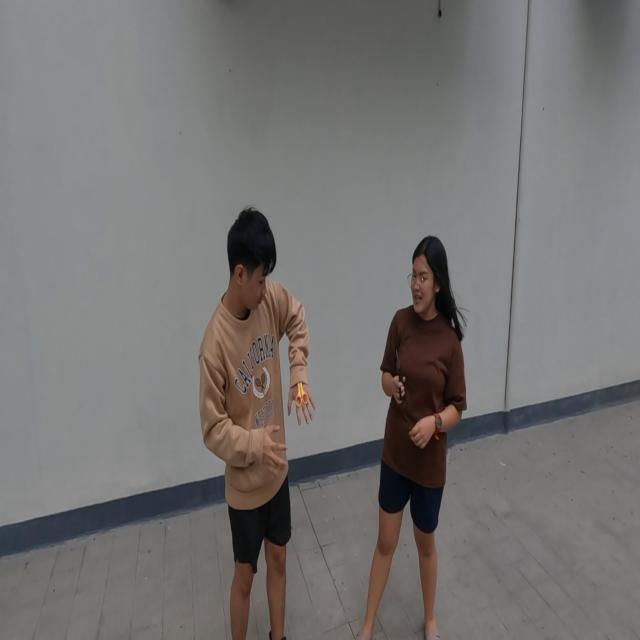scissor: (394, 349, 410, 401), (294, 382, 310, 408)
